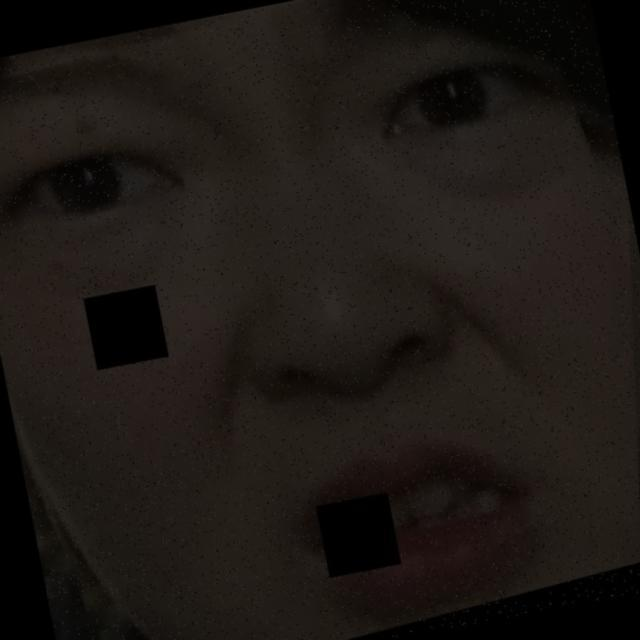Angry: (14, 50, 640, 639)
